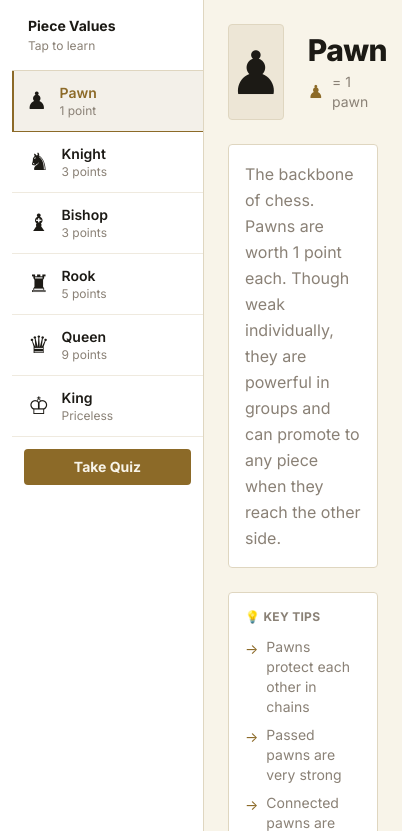
Test case: PieceValuesPage › the King shows "Infinite value" instead of a pawn count
Click the text "King".
click(77, 398)  # box [62,389,92,406]
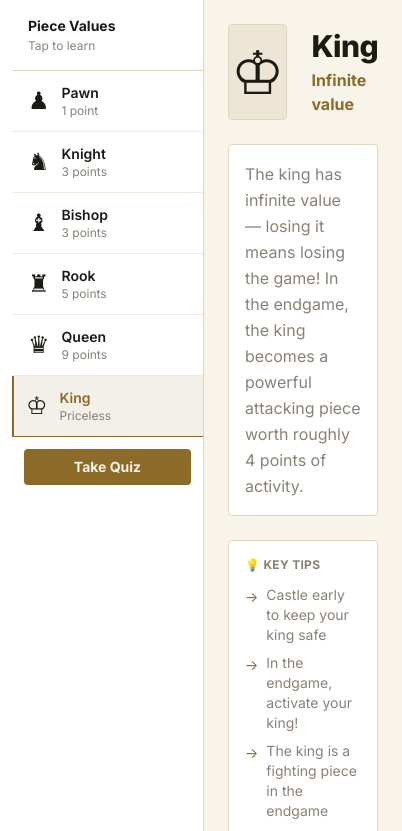
Check: the text "Infinite value" is shown, box [311,70,366,114]
